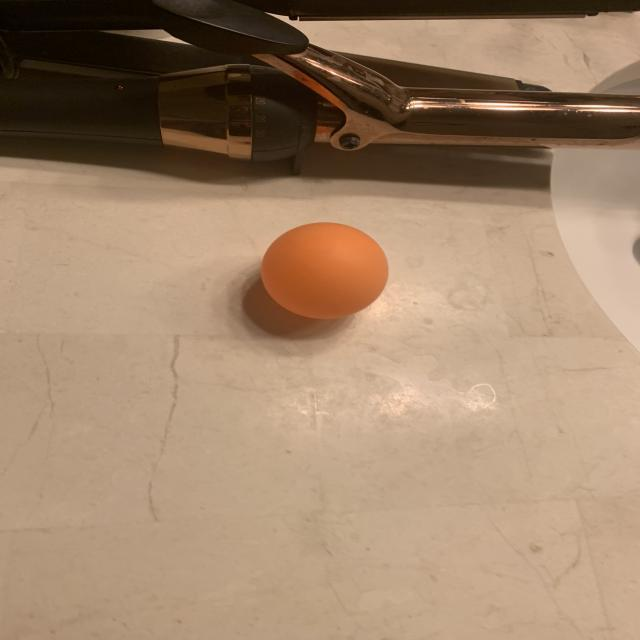ping-pong-ball: (252, 218, 399, 326)
